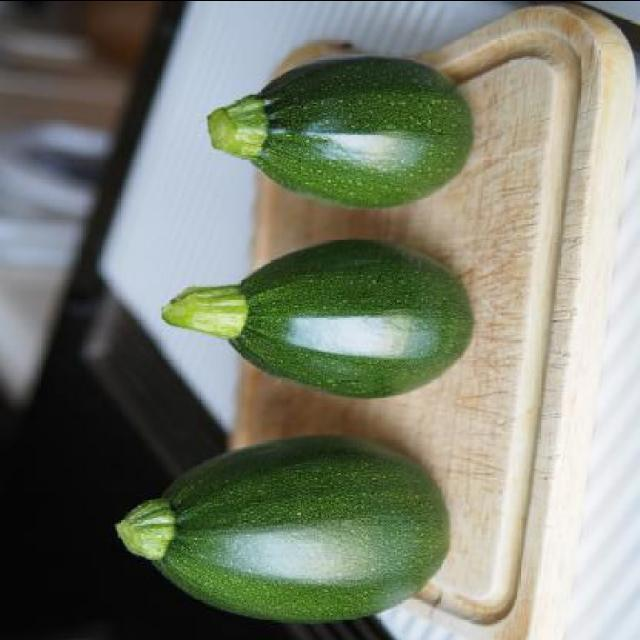Zucchini: (106, 438, 446, 628), (158, 238, 476, 396), (202, 52, 472, 210)
